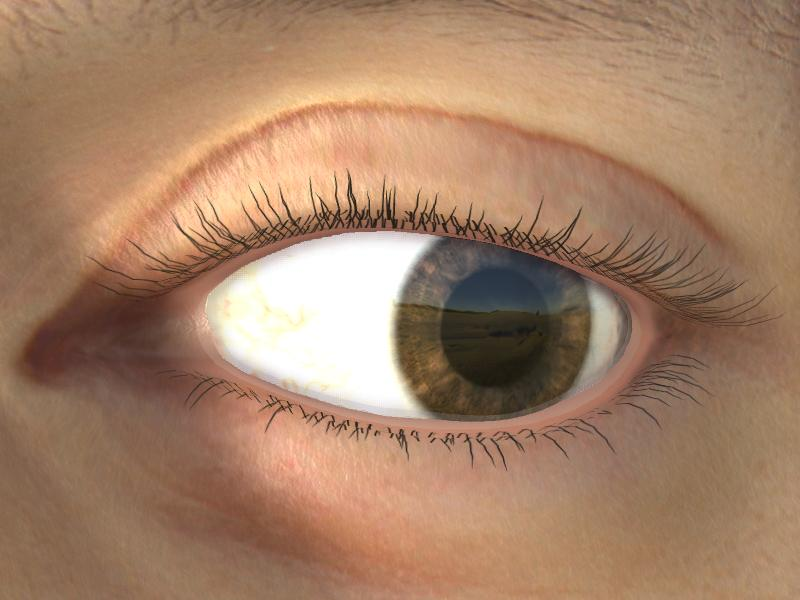eye: (392, 234, 592, 421)
